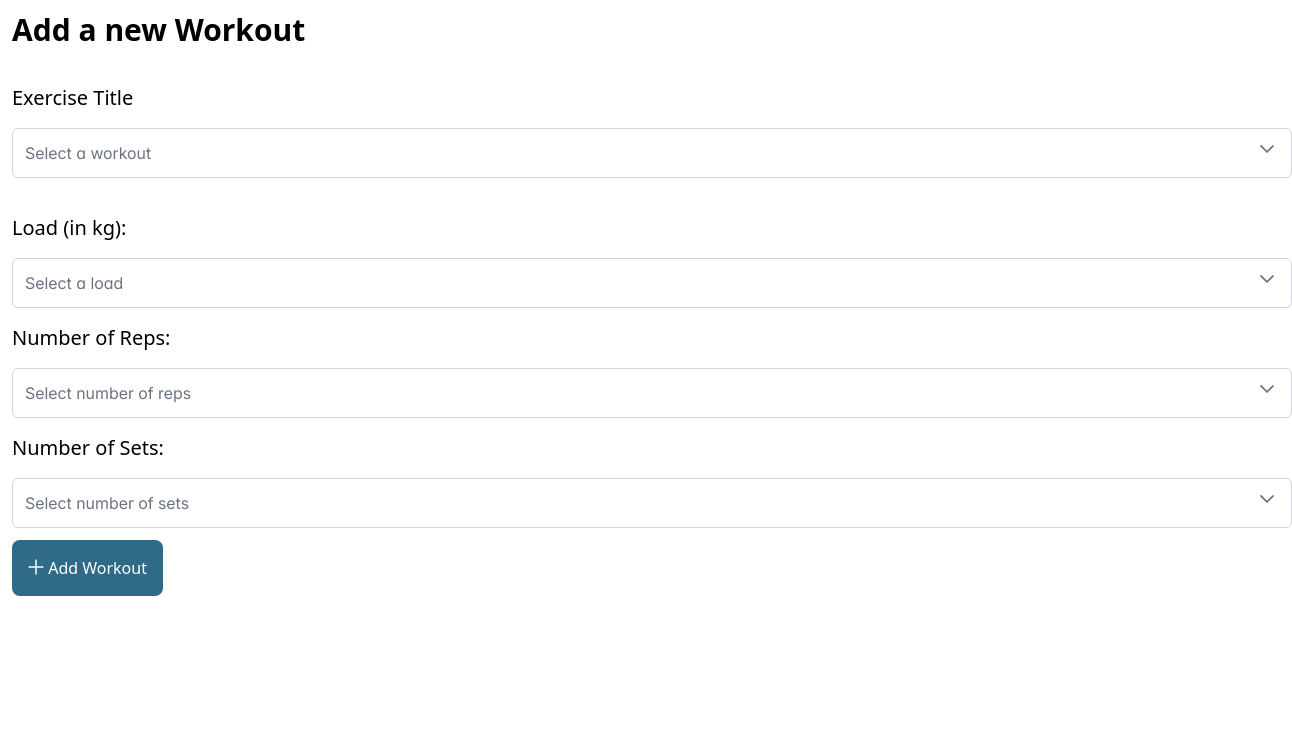
Test: WorkoutForm Component › should show an error message when submitting without filling out all fields
Note: Submit the form without filling out all fields
Click the button with test id "add-workout" at (88, 568), box [12,540,163,596]
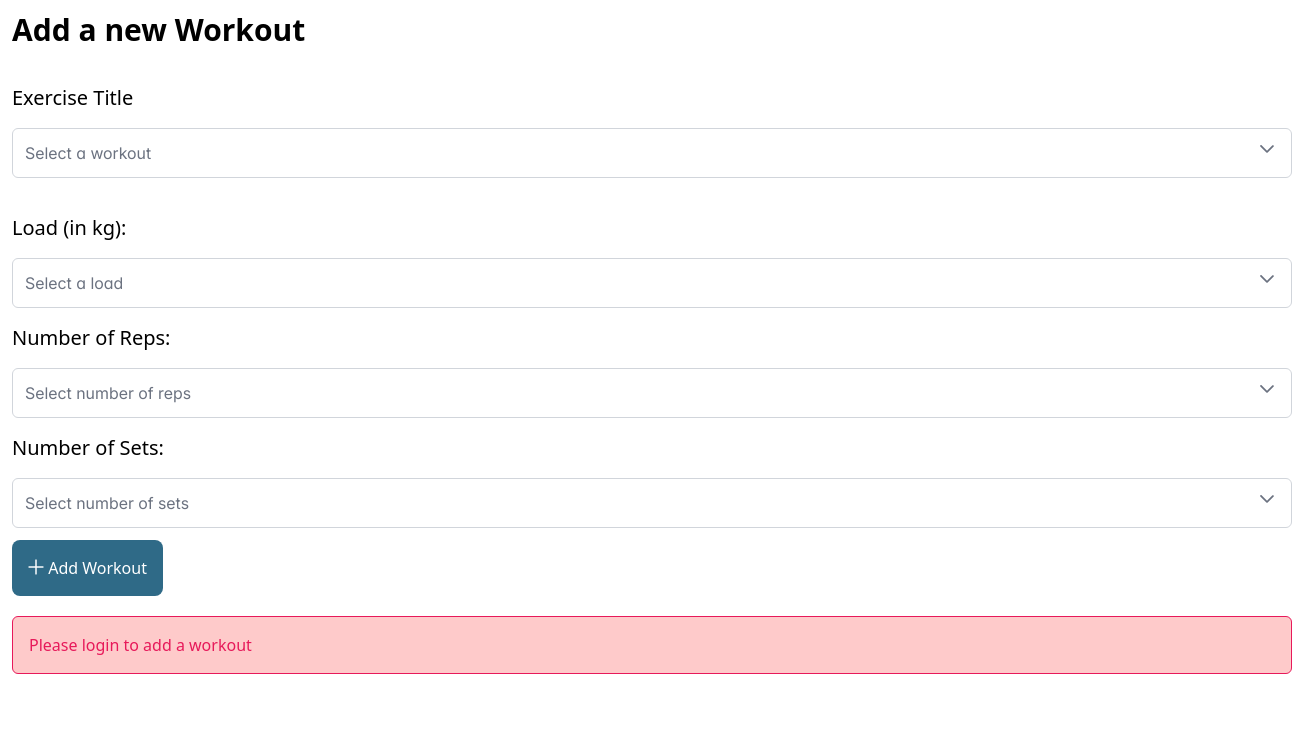
Result: the text "Please login to add a workout" is shown at [12,616,1291,674]
